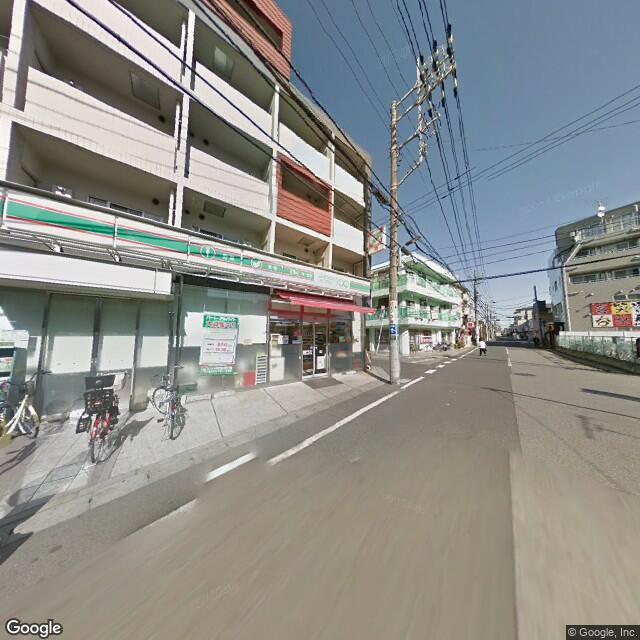lawson: (1, 190, 373, 296), (367, 224, 386, 252)
